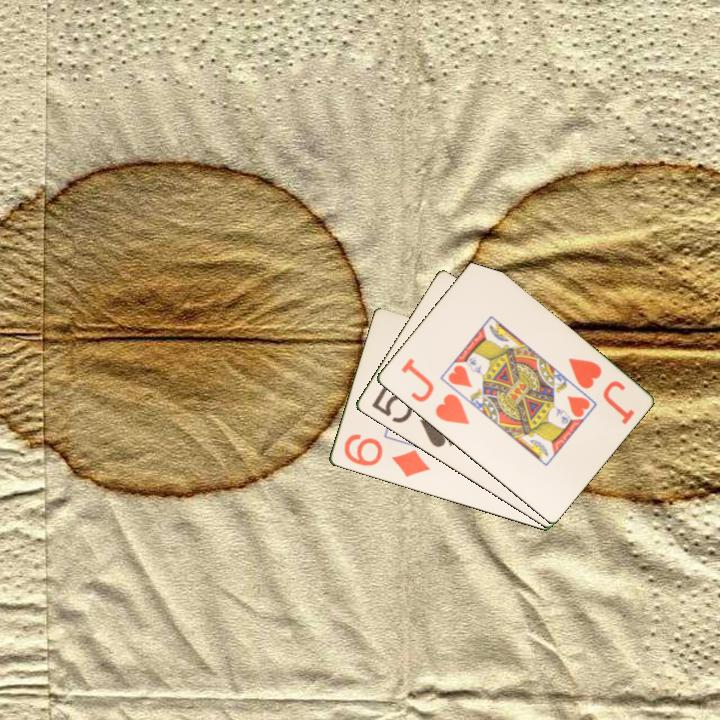5s: (368, 382, 459, 451)
6d: (340, 430, 433, 480)
Jh: (397, 354, 472, 428), (564, 354, 604, 392)
